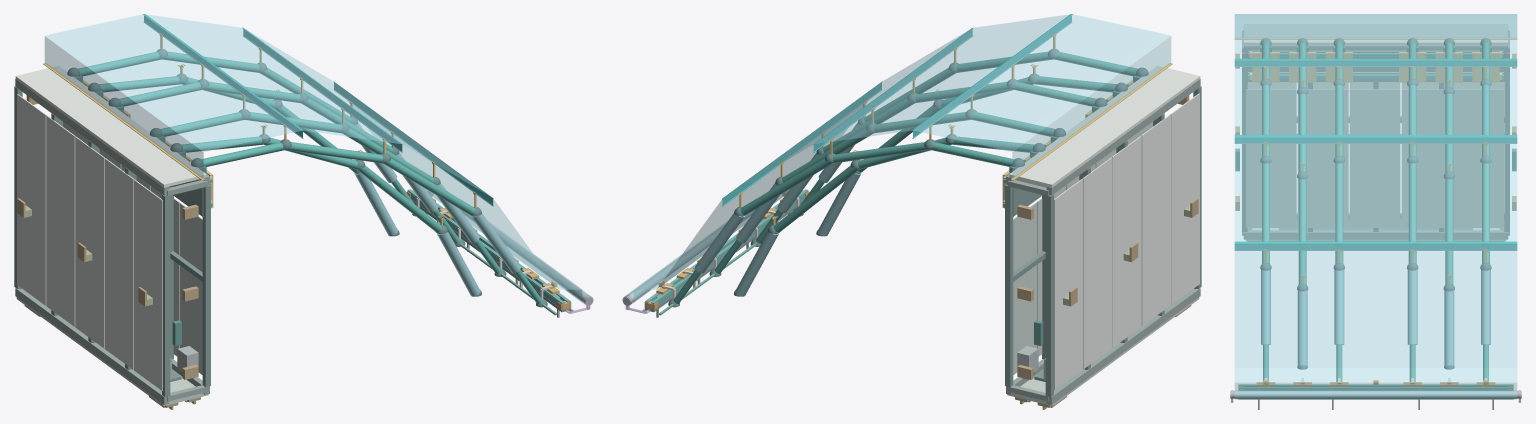
File: 04_release_candidate.glb
3 views of the same model, side by side, from view 1: azimuth 30°, elevation 25°; view 2: azimuth 150°, elevation 25°; view 3: azimuth 270°, elevation 25° (orthographic). The views are drawn at different scales.
Parts seen in each view (by area): view 1: F04_CONTINUOUS_SINGLE_SHEET, M1_W01_P_wall_top_coping, M1_W01_P_outer_back_2, M1_W01_P_outer_back_4, M1_W01_P_outer_back_5, M1_W01_P_outer_back_1, M1_W01_P_outer_back_3, M1_W01_P_front_lower_1, M1_W01_F_long_0_0, M1_W01_F_post_1_0, M1_W01_F_post_0_0, F04_web3 (+28 smaller); view 2: F04_CONTINUOUS_SINGLE_SHEET, M1_W01_P_wall_top_coping, M1_W01_P_outer_back_2, M1_W01_P_outer_back_4, M1_W01_P_outer_back_5, M1_W01_P_outer_back_3, M1_W01_P_outer_back_1, M1_W01_P_front_lower_5, M1_W01_F_long_0_0, M1_W01_F_post_0_4, M1_W01_F_post_1_4, M1_W01_F_long_0_1 (+27 smaller); view 3: F04_CONTINUOUS_SINGLE_SHEET, M1_W01_P_front_lower_3, M1_W01_P_front_lower_1, M1_W01_P_front_lower_5, M1_W01_P_wall_top_coping, M1_W01_P_front_lower_4, M1_W01_P_front_lower_2, F04_front_roll_core, M1_W01_F_long_1_0, F04_web1, F04_web2, F04_web3 (+47 smaller).
Part boxes in pixels (x1=…): F04_CONTINUOUS_SINGLE_SHEET: x1=45, y1=14, x2=589, y2=303; M1_W01_P_wall_top_coping: x1=15, y1=66, x2=206, y2=187; M1_W01_P_outer_back_2: x1=104, y1=158, x2=133, y2=369; M1_W01_P_outer_back_4: x1=46, y1=115, x2=75, y2=326; M1_W01_P_outer_back_5: x1=17, y1=94, x2=46, y2=305; M1_W01_P_outer_back_1: x1=133, y1=179, x2=162, y2=390; M1_W01_P_outer_back_3: x1=75, y1=136, x2=104, y2=348; M1_W01_P_front_lower_1: x1=179, y1=203, x2=202, y2=374; M1_W01_F_long_0_0: x1=15, y1=288, x2=169, y2=404; M1_W01_F_post_1_0: x1=202, y1=184, x2=210, y2=387; M1_W01_F_post_0_0: x1=162, y1=194, x2=170, y2=396; F04_web3: x1=334, y1=82, x2=493, y2=205; F04_CONTINUOUS_SINGLE_SHEET: x1=626, y1=14, x2=1170, y2=303; M1_W01_P_wall_top_coping: x1=1009, y1=66, x2=1200, y2=187; M1_W01_P_outer_back_2: x1=1141, y1=114, x2=1170, y2=326; M1_W01_P_outer_back_4: x1=1083, y1=157, x2=1112, y2=368; M1_W01_P_outer_back_5: x1=1054, y1=178, x2=1083, y2=390; M1_W01_P_outer_back_3: x1=1112, y1=136, x2=1141, y2=347; M1_W01_P_outer_back_1: x1=1170, y1=93, x2=1199, y2=304; M1_W01_P_front_lower_5: x1=1013, y1=202, x2=1037, y2=374; M1_W01_F_long_0_0: x1=1046, y1=288, x2=1200, y2=404; M1_W01_F_post_0_4: x1=1045, y1=194, x2=1053, y2=396; M1_W01_F_post_1_4: x1=1005, y1=184, x2=1013, y2=387; M1_W01_F_long_0_1: x1=1046, y1=79, x2=1200, y2=195; F04_CONTINUOUS_SINGLE_SHEET: x1=1234, y1=14, x2=1517, y2=399; M1_W01_P_front_lower_3: x1=1349, y1=89, x2=1400, y2=227; M1_W01_P_front_lower_1: x1=1246, y1=89, x2=1296, y2=227; M1_W01_P_front_lower_5: x1=1453, y1=89, x2=1503, y2=227; M1_W01_P_wall_top_coping: x1=1244, y1=24, x2=1507, y2=45; M1_W01_P_front_lower_4: x1=1401, y1=89, x2=1445, y2=227; M1_W01_P_front_lower_2: x1=1297, y1=89, x2=1348, y2=227; F04_front_roll_core: x1=1230, y1=391, x2=1521, y2=398; M1_W01_F_long_1_0: x1=1243, y1=230, x2=1508, y2=239; F04_web1: x1=1234, y1=60, x2=1517, y2=66; F04_web2: x1=1234, y1=137, x2=1517, y2=142; F04_web3: x1=1234, y1=245, x2=1517, y2=249.
Size of the model in its own units: 5.63 by 3.31 by 3.71.
